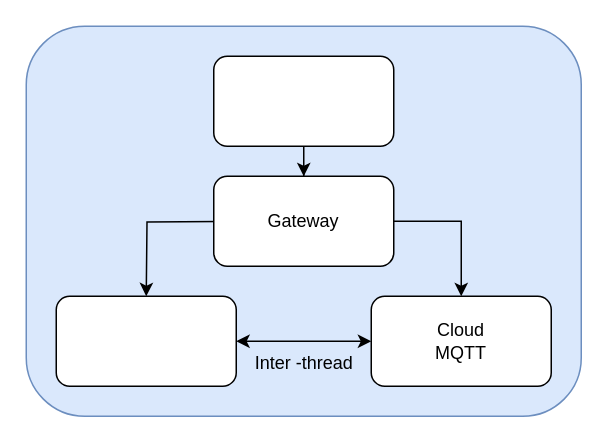
Image size: 608x443. Some labels were removed from this diagram. The shapes that lost their labels are listed below. From the top down, each one's centre as x and y in pixels, then its label:
the point at 303,100: Control Http Server
the point at 145,340: Edge Modbus RTU
